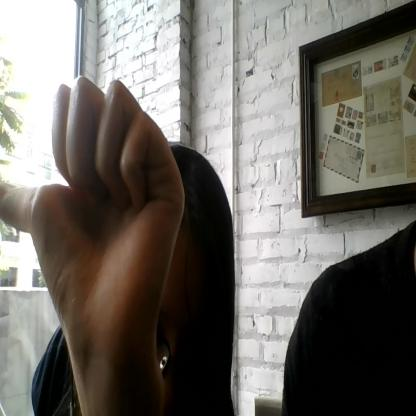right: (0, 75, 190, 355)
